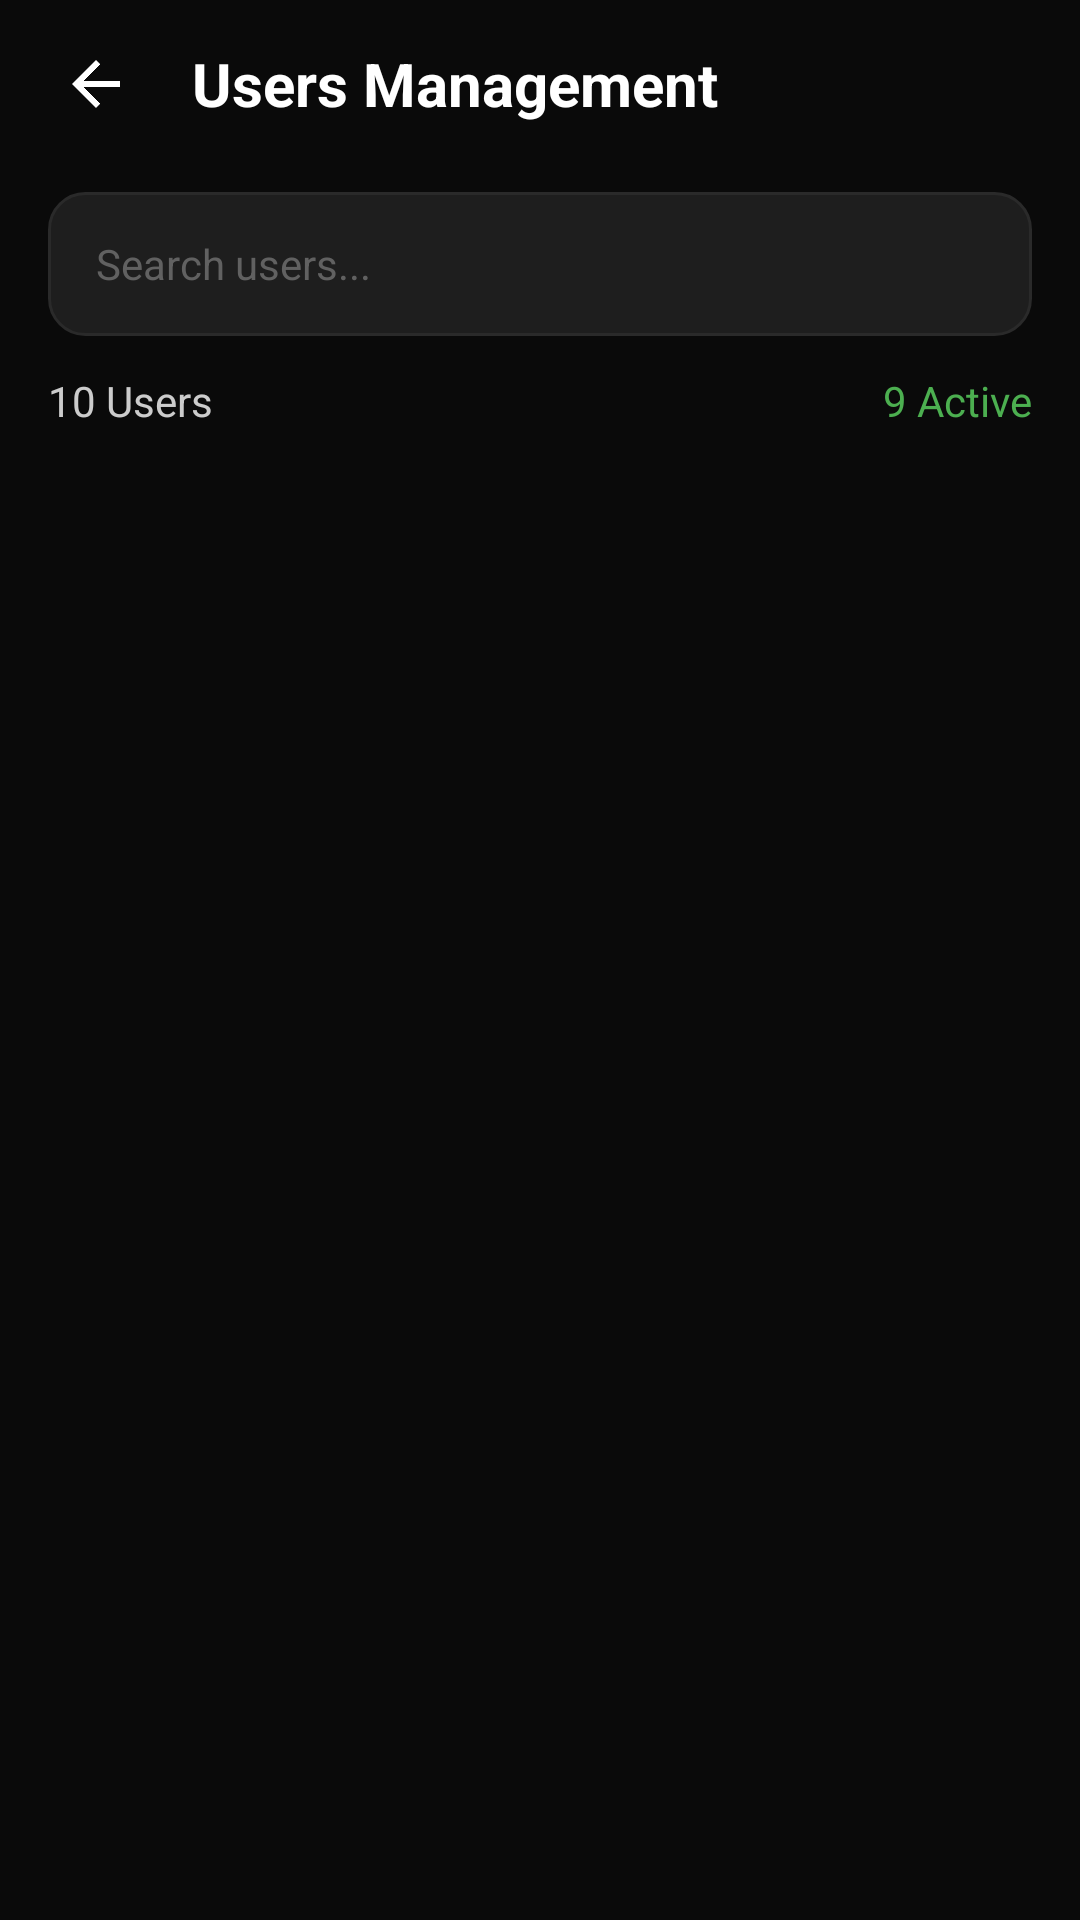

Named icons in this screenshot (1080 x 1920) and their centers, (x=x, y=y):
back: (x=96, y=84)
